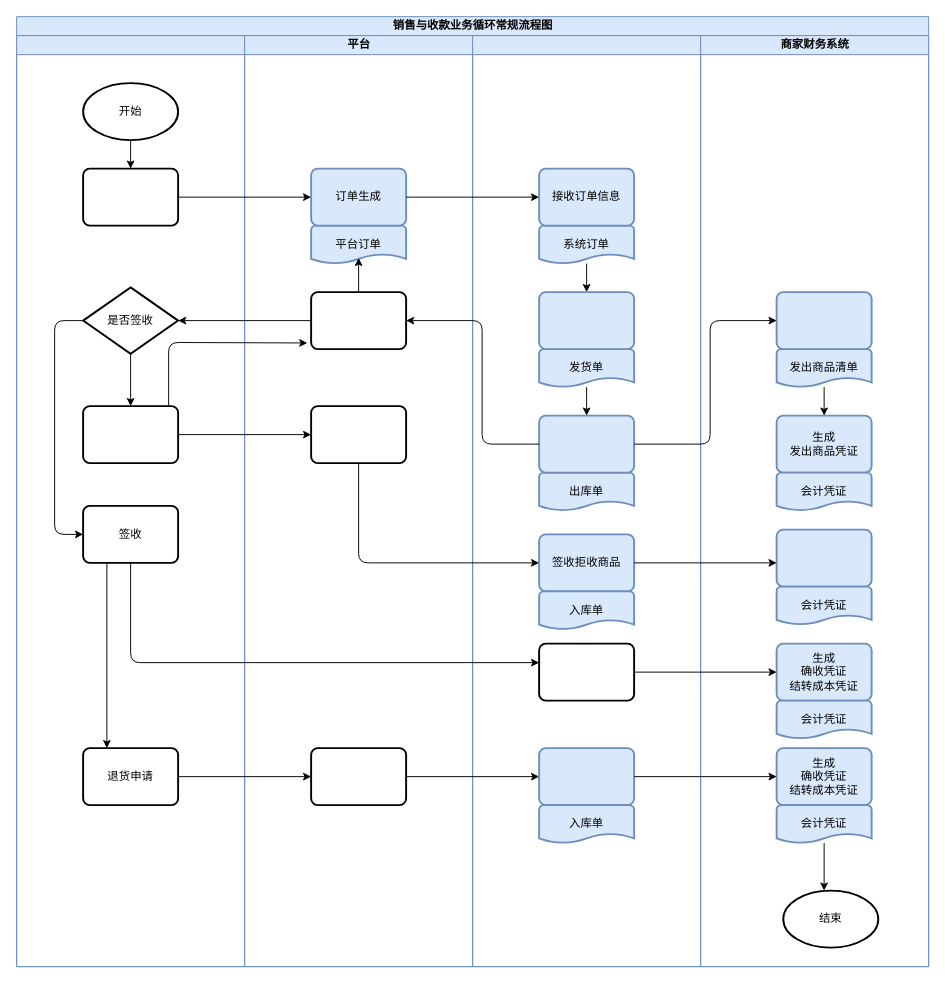
The diagram is 945 pixels wide and 983 high, and some of its shapes have lost their labels. The shapes that lost their labels are listed below. From the top down, each one's box as (x1, y1, x2, y2) in pixels, then its label:
(82, 167, 179, 226): 下单支付
(310, 291, 407, 350): 订单状态更新
(538, 291, 635, 350): 发货申请
(775, 291, 872, 350): 同步仓库信息
(82, 405, 179, 464): 拒收
(310, 405, 407, 464): 拒收流程
(538, 414, 635, 473): 仓库出库
(16, 35, 245, 967): 用户
(472, 35, 701, 967): 商家订单管理系统
(775, 528, 872, 587): 生成 发出商品 入库凭证
(538, 642, 635, 701): 订单出库校验，7天无理由校验
(310, 747, 407, 806): 退货流程
(538, 747, 635, 806): 签收退货商品
